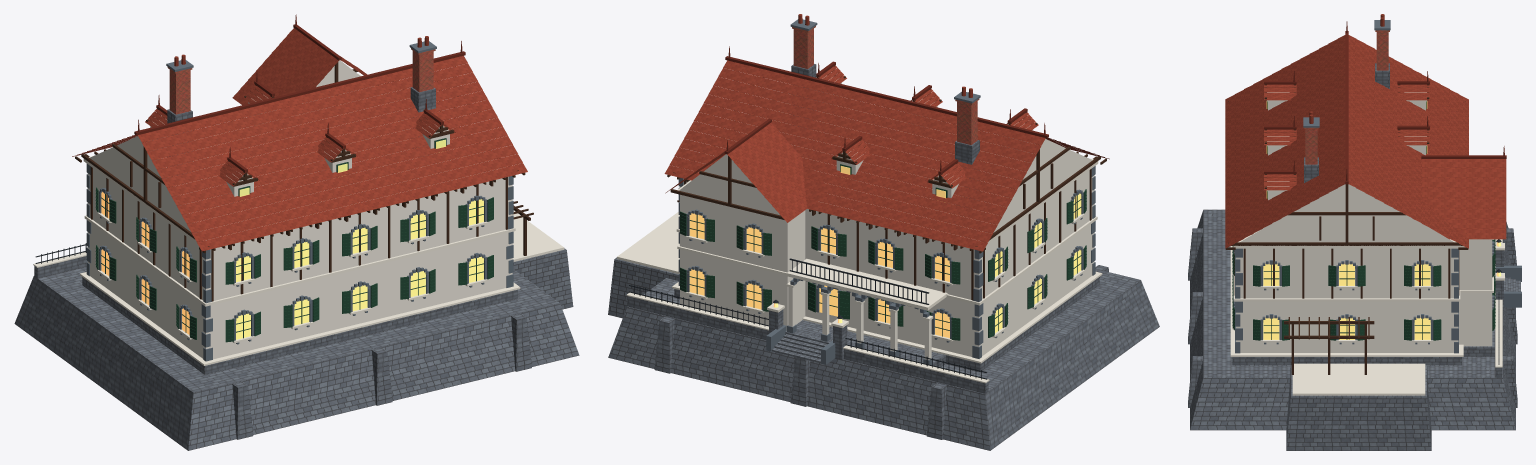
The model's file is fv_yk_01_biet_dien_tran_le_xuan_bach_ngoc_pool.glb.
3 renders of one model, left to right at view 1: azimuth 30°, elevation 25°; view 2: azimuth 150°, elevation 25°; view 3: azimuth 270°, elevation 25°, orthographic. The views are drawn at different scales.
Visible parts, largest first — view 1: Foundation_Skirt_Neg3p5m, Normandy_Brittany_Layered_Roof, Villa_Stucco_Walls, Molded_Cornices_And_Sills, PineGreen_Louvered_Shutters, Stone_Quoins_And_Arches, Exposed_Timber_Trusses_And_Rafters, Warm_Night_Windows_20h00_Blend, Roof_Ridges_Caps_And_Finials, Brick_Chimney_Stacks; view 2: Foundation_Skirt_Neg3p5m, Normandy_Brittany_Layered_Roof, Villa_Stucco_Walls, Molded_Cornices_And_Sills, Stone_Quoins_And_Arches, PineGreen_Louvered_Shutters, Exposed_Timber_Trusses_And_Rafters, Warm_Night_Windows_20h00_Blend, Roof_Ridges_Caps_And_Finials, Wrought_Iron_Balustrades_And_Gate, Brick_Chimney_Stacks; view 3: Normandy_Brittany_Layered_Roof, Foundation_Skirt_Neg3p5m, Villa_Stucco_Walls, Molded_Cornices_And_Sills, Exposed_Timber_Trusses_And_Rafters, Stone_Quoins_And_Arches, PineGreen_Louvered_Shutters, Warm_Night_Windows_20h00_Blend, Roof_Ridges_Caps_And_Finials, Brick_Chimney_Stacks.
Part boxes in pixels (x1,y1,x2,y2): Foundation_Skirt_Neg3p5m: [14, 87, 579, 450]; Normandy_Brittany_Layered_Roof: [138, 28, 527, 251]; Villa_Stucco_Walls: [87, 60, 512, 359]; Molded_Cornices_And_Sills: [33, 74, 564, 365]; PineGreen_Louvered_Shutters: [95, 138, 493, 342]; Stone_Quoins_And_Arches: [86, 41, 513, 361]; Exposed_Timber_Trusses_And_Rafters: [75, 62, 533, 301]; Warm_Night_Windows_20h00_Blend: [101, 139, 483, 339]; Roof_Ridges_Caps_And_Finials: [72, 14, 465, 180]; Brick_Chimney_Stacks: [167, 48, 435, 114]; Foundation_Skirt_Neg3p5m: [608, 64, 1159, 450]; Normandy_Brittany_Layered_Roof: [664, 14, 1045, 251]; Villa_Stucco_Walls: [679, 82, 1094, 359]; Molded_Cornices_And_Sills: [617, 75, 1102, 383]; Stone_Quoins_And_Arches: [678, 19, 1095, 364]; PineGreen_Louvered_Shutters: [680, 164, 1086, 340]; Exposed_Timber_Trusses_And_Rafters: [667, 65, 1106, 300]; Warm_Night_Windows_20h00_Blend: [689, 166, 1081, 338]; Roof_Ridges_Caps_And_Finials: [665, 46, 1109, 193]; Wrought_Iron_Balustrades_And_Gate: [629, 258, 987, 379]; Brick_Chimney_Stacks: [792, 26, 979, 144]; Normandy_Brittany_Layered_Roof: [1225, 14, 1506, 248]; Foundation_Skirt_Neg3p5m: [1188, 63, 1520, 450]; Villa_Stucco_Walls: [1236, 101, 1492, 352]; Molded_Cornices_And_Sills: [1230, 92, 1504, 395]; Exposed_Timber_Trusses_And_Rafters: [1225, 84, 1468, 374]; Stone_Quoins_And_Arches: [1233, 20, 1521, 353]; PineGreen_Louvered_Shutters: [1232, 101, 1495, 340]; Warm_Night_Windows_20h00_Blend: [1263, 101, 1501, 339]; Roof_Ridges_Caps_And_Finials: [1264, 21, 1506, 184]; Brick_Chimney_Stacks: [1304, 30, 1389, 164].
Bounding box in the file's own units: 31.9 × 20.7 × 22.53.
12 materials, 3 textured.
